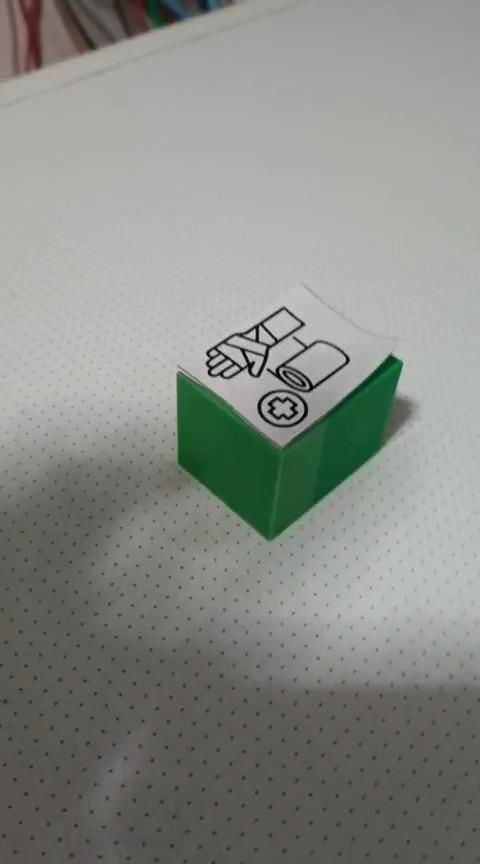Bandages: (174, 280, 403, 540)
